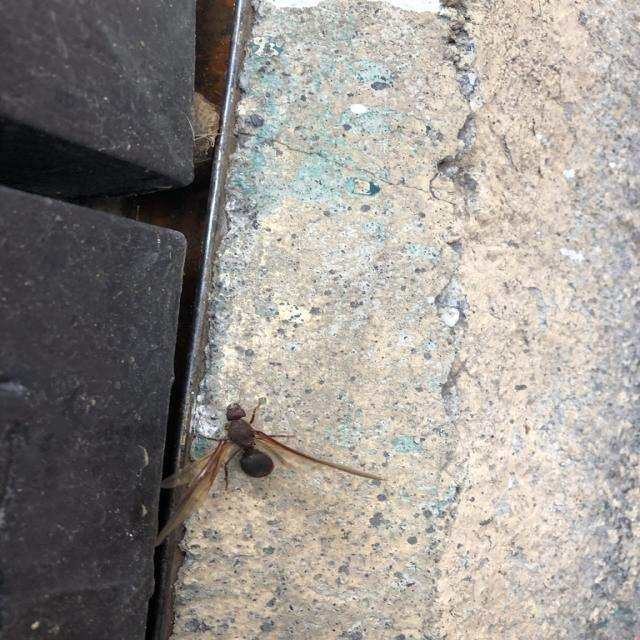Alive-Female-Alate: (152, 389, 389, 546)
